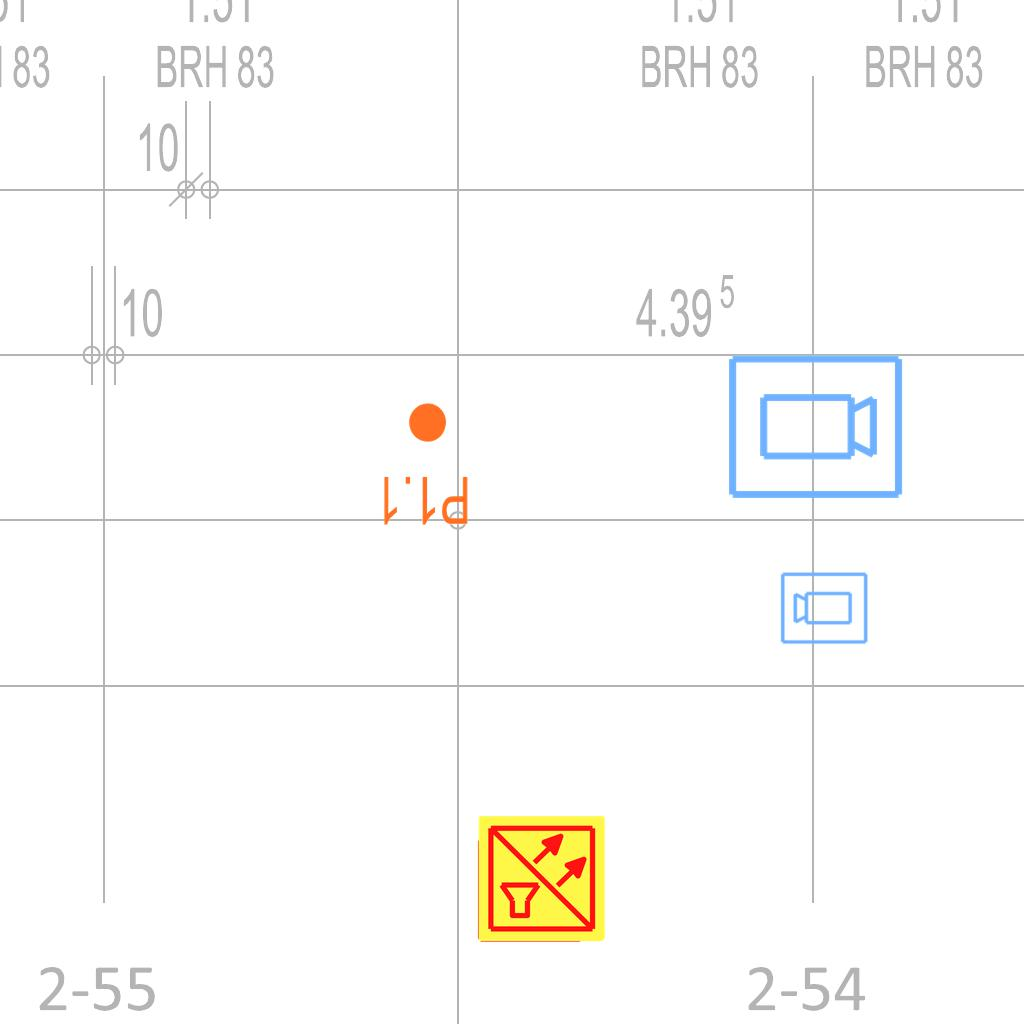Downlight_LED_Einbauleuchten_Flur: (378, 400, 471, 528)
KFO_Kamera_mit_Festobjektiv: (724, 351, 906, 505), (779, 569, 870, 646)
OKW_Multisensormelder_(Kombination_optischer_Rauch-Kahlenmonoxid_Waerme-Melder): (476, 813, 608, 945)
